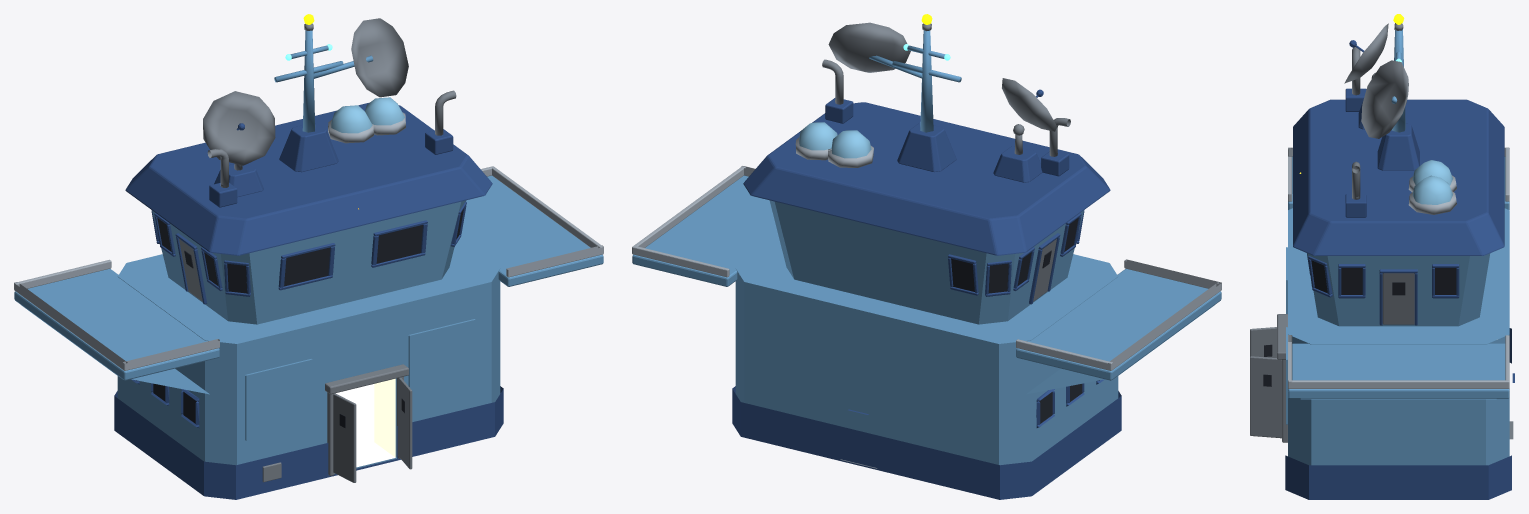
File: SHIP_CABIN_01.fbx
3 renders of one model, left to right at view 1: azimuth 30°, elevation 25°; view 2: azimuth 150°, elevation 25°; view 3: azimuth 270°, elevation 25°, orthographic.
Parts seen in each view (by area): view 1: Base_Cabin, Wheelhouse_Visor, Upper_Wheelhouse, Balcony_Wing_L, Base_Rim_Trim, Balcony_Wing_R, Front_Panel_R.001, Front_Panel_R, Dish_Angled, Dish_Large, Balcony_Rim_L, Balcony_Rim_R (+13 smaller); view 2: Base_Cabin, Wheelhouse_Visor, Upper_Wheelhouse, Base_Rim_Trim, Balcony_Wing_L, Balcony_Wing_R, Balcony_Rim_L, Dish_Large, Balcony_Rim_R, Mast_Base, Dish_Angled, Dish_Pedestal (+4 smaller); view 3: Wheelhouse_Visor, Base_Cabin, Balcony_Wing_R, Base_Rim_Trim, Upper_Wheelhouse, Dish_Large, Front_Door_R, Balcony_Rim_R, Mast_Base, WH_Side_Door_R_Panel, Radome_1_Dome.001, Dish_Angled (+16 smaller).
Boxes of the visible parts, x1,y1,x2,y2 form: Base_Cabin: (117,239,500,473); Wheelhouse_Visor: (125,102,492,255); Upper_Wheelhouse: (152,200,466,324); Balcony_Wing_L: (14,268,219,394); Base_Rim_Trim: (114,386,503,499); Balcony_Wing_R: (460,175,603,286); Front_Panel_R.001: (245,359,312,441); Front_Panel_R: (408,319,475,400); Dish_Angled: (203,91,275,165); Dish_Large: (351,18,408,97); Balcony_Rim_L: (14,259,219,370); Balcony_Rim_R: (480,166,603,277); Base_Cabin: (735,237,1118,465); Wheelhouse_Visor: (743,102,1110,255); Upper_Wheelhouse: (769,200,1083,324); Base_Rim_Trim: (732,386,1121,499); Balcony_Wing_L: (1016,268,1221,394); Balcony_Wing_R: (632,175,778,286); Balcony_Rim_L: (1016,259,1221,370); Dish_Large: (828,22,910,72); Balcony_Rim_R: (632,166,755,277); Mast_Base: (897,123,956,172); Dish_Angled: (1002,78,1056,131); Dish_Pedestal: (993,146,1042,182); Wheelhouse_Visor: (1293,99,1504,255); Base_Cabin: (1288,208,1509,465); Balcony_Wing_R: (1288,343,1509,399); Base_Rim_Trim: (1285,328,1511,499); Upper_Wheelhouse: (1307,253,1490,326); Dish_Large: (1361,60,1408,138); Front_Door_R: (1250,356,1281,438); Balcony_Rim_R: (1288,335,1509,388); Mast_Base: (1377,123,1419,170); WH_Side_Door_R_Panel: (1382,273,1414,324); Radome_1_Dome.001: (1412,175,1452,204); Dish_Angled: (1344,23,1388,83).
Bounding box in the file's own units: 1300 × 1068 × 621.
